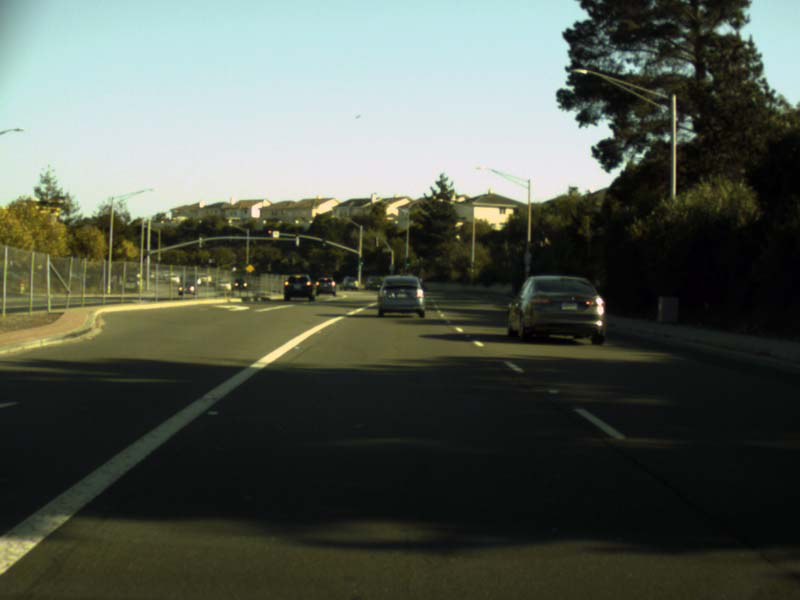Green: (359, 257, 363, 265), (322, 238, 326, 246)
Red: (267, 230, 271, 236)
